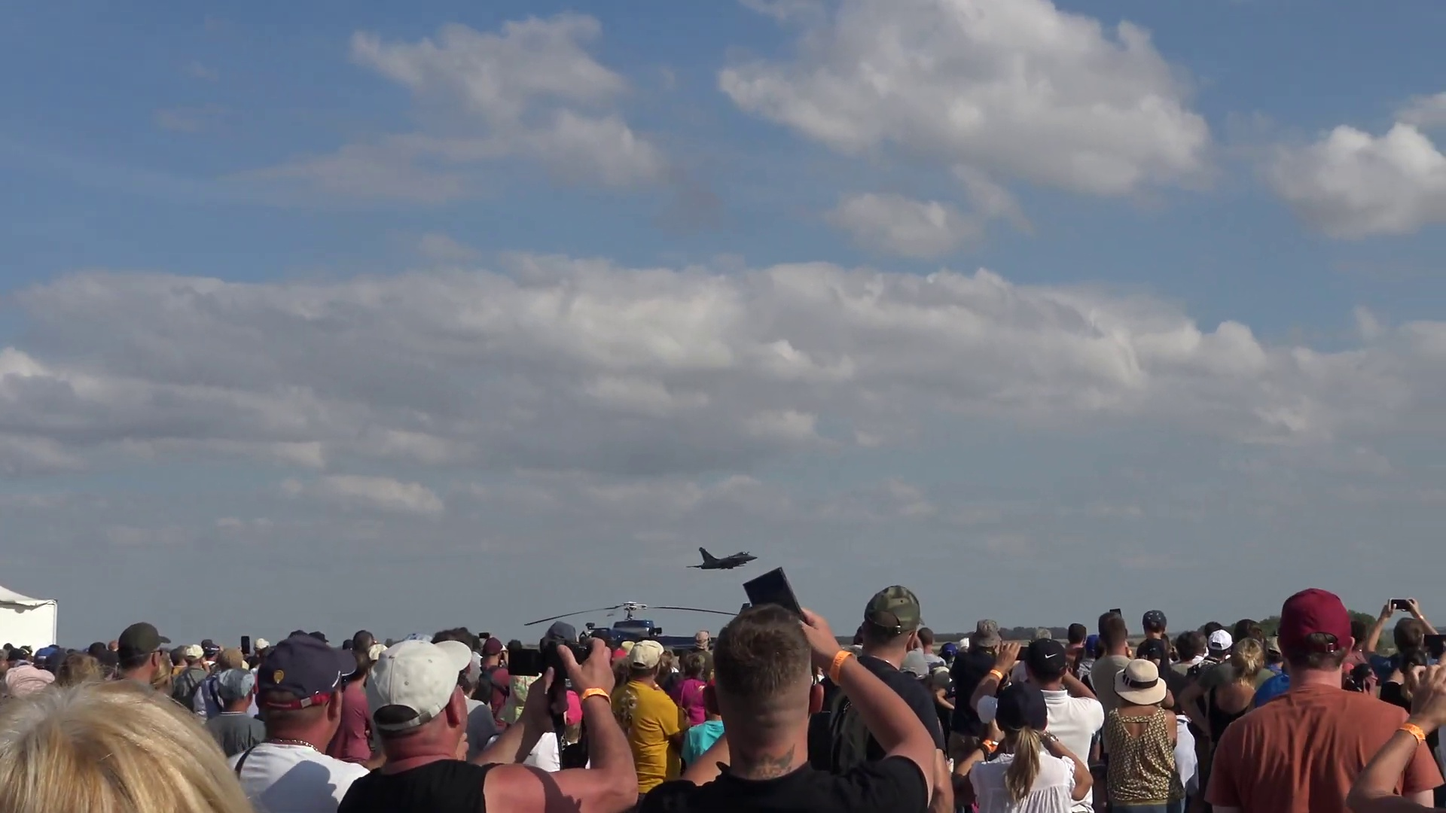Rafale: (683, 545, 759, 572)
